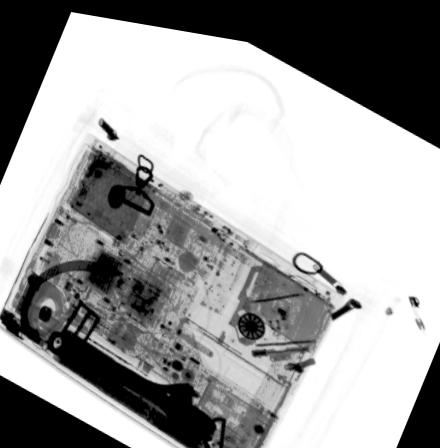Wrench: (47, 326, 218, 434)
